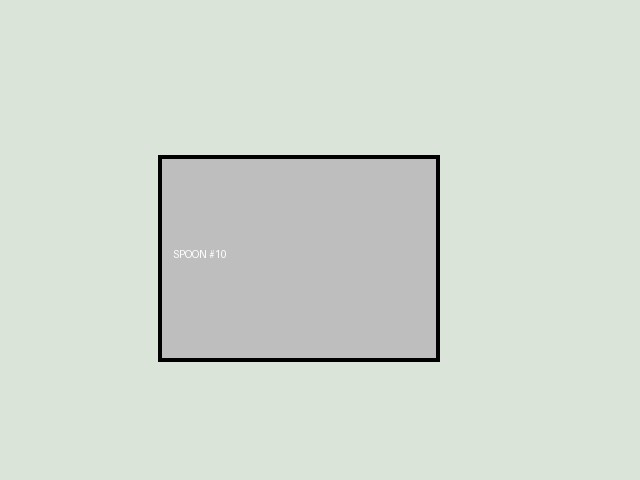spoon: (158, 155, 439, 361)
